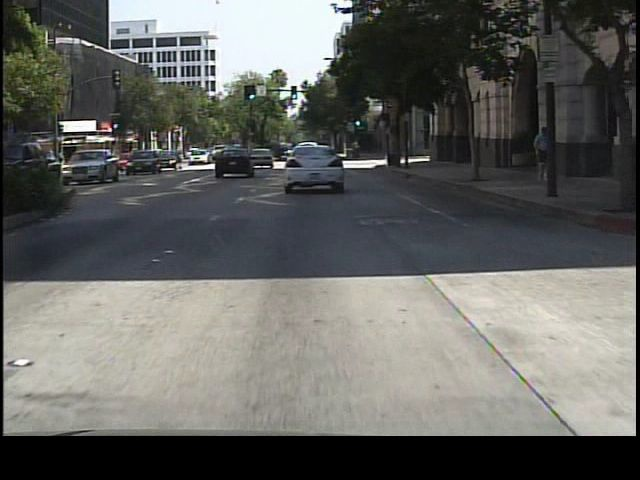person: (530, 124, 555, 189)
